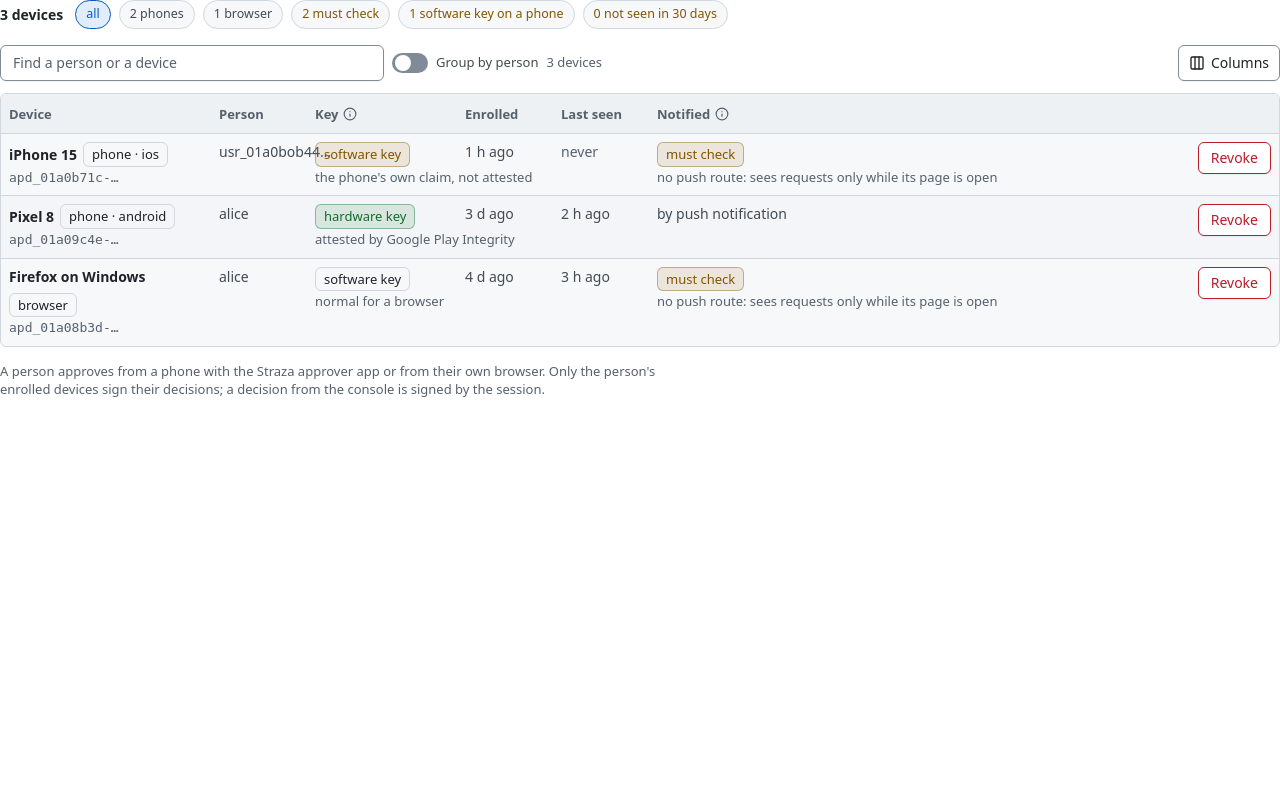
Scenario: the approver devices tab › revokes through the dialog, says so, reads the list again and tells the page
This screenshot has width=1280, height=800.
Click the button with aria-label "Revoke Pixel 8".
click(1234, 220)  # box 1198,204 -> 1271,236
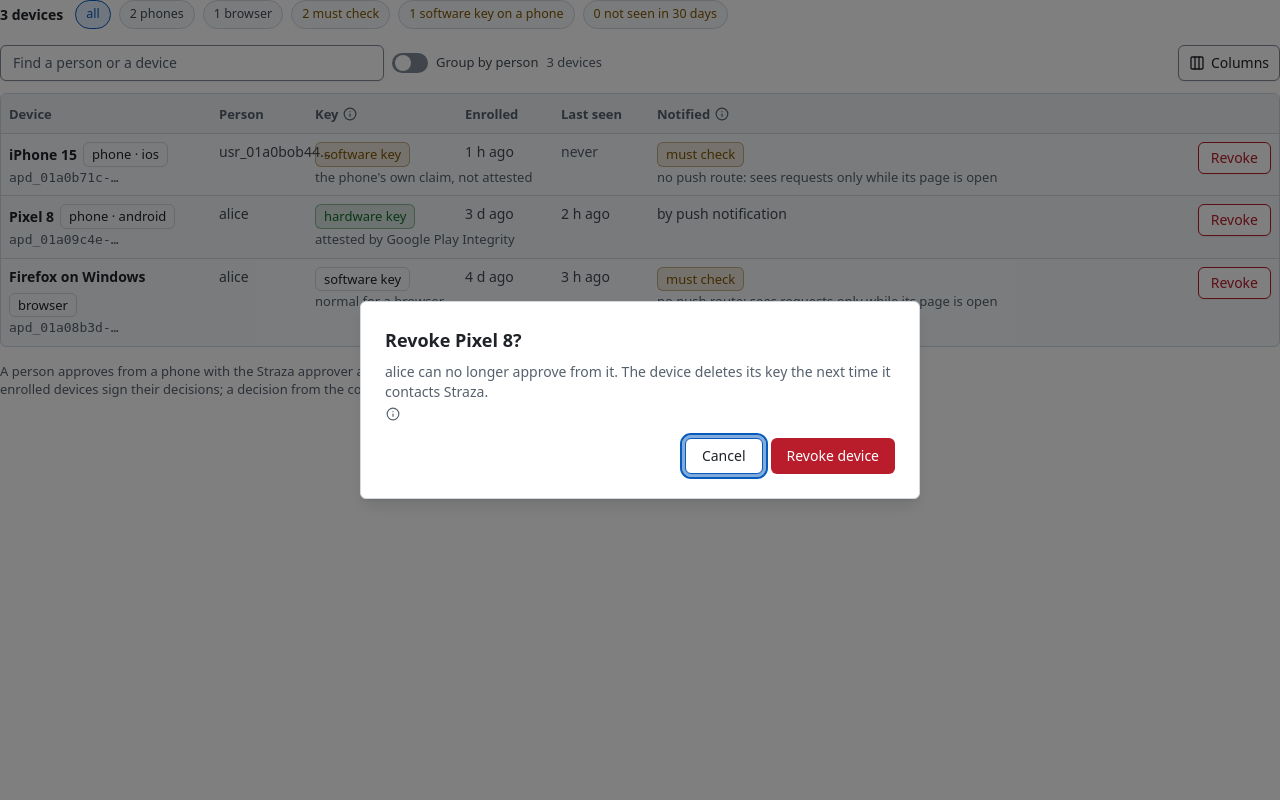
Click the button "Revoke device".
click(833, 456)  # box 770,438 -> 895,474
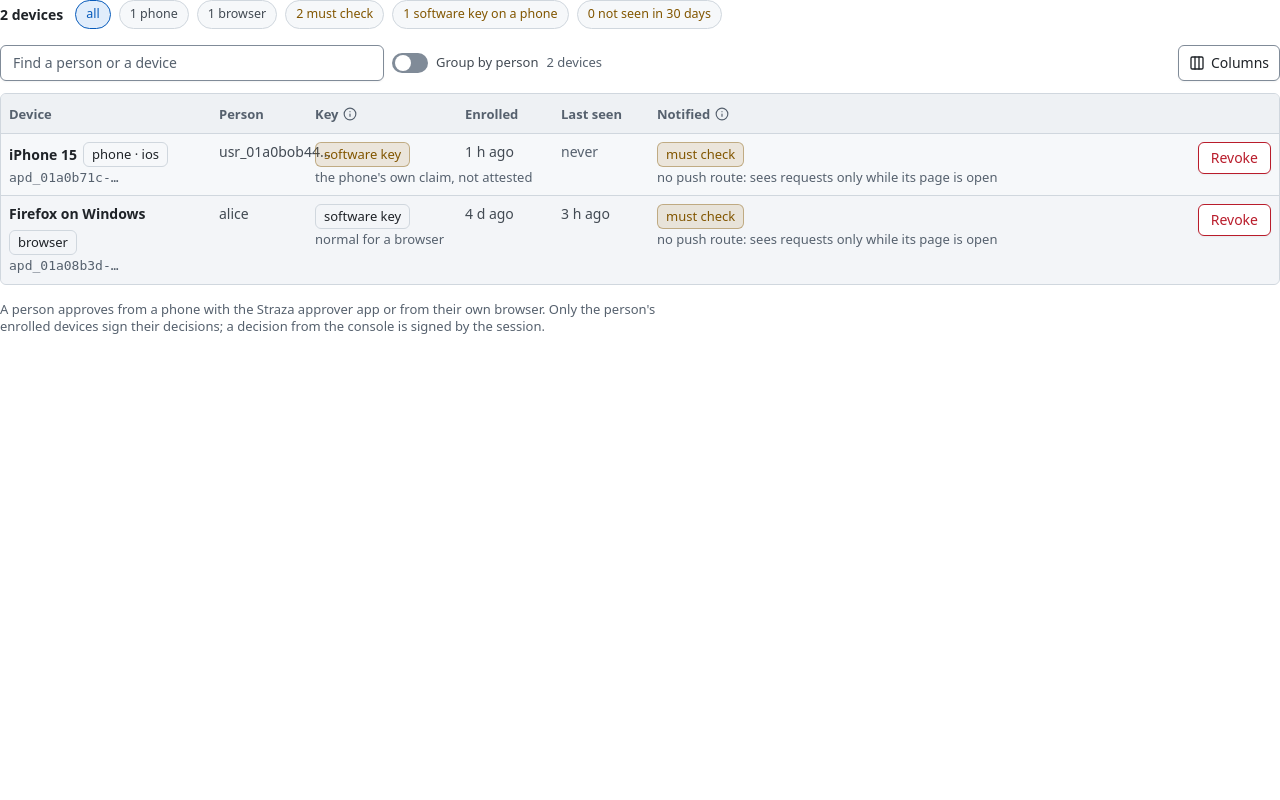
Expected: the dialog is gone
